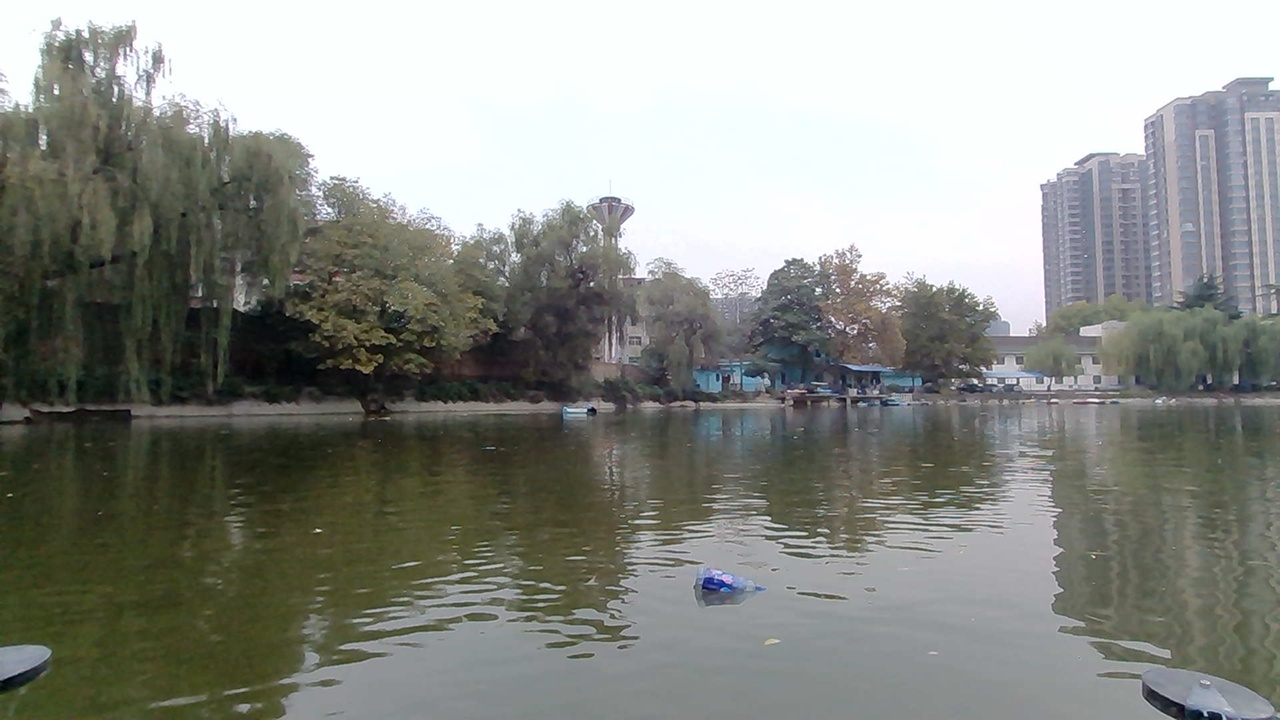bottle: (702, 573, 747, 607)
